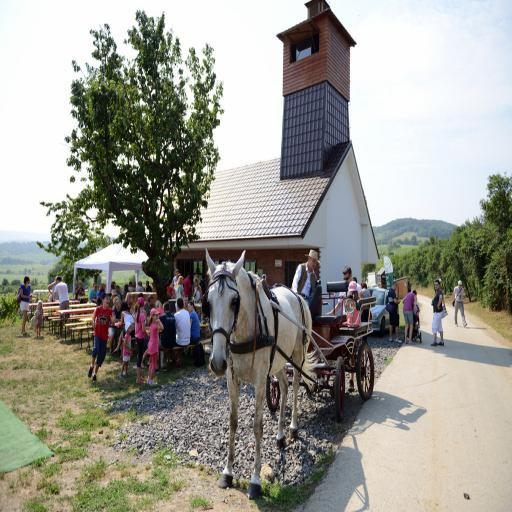Horse: (205, 249, 313, 502)
